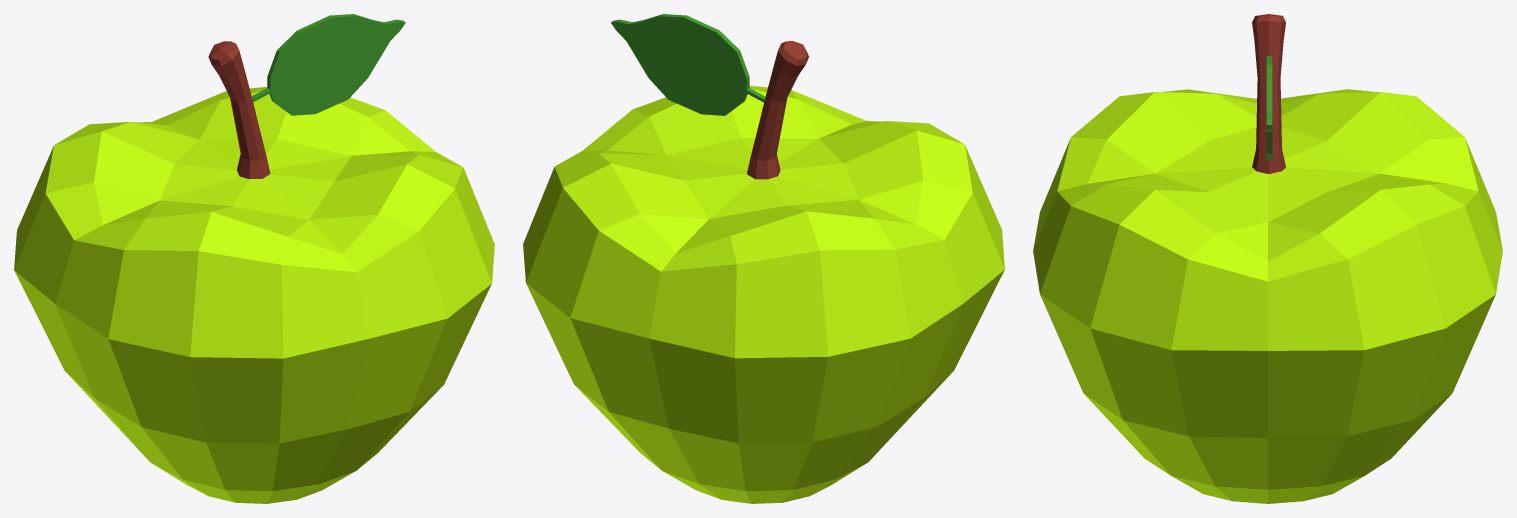
File: Apple_Green.fbx
3 views of the same model, side by side, from view 1: azimuth 30°, elevation 25°; view 2: azimuth 150°, elevation 25°; view 3: azimuth 270°, elevation 25° (orthographic). The views are drawn at different scales.
Visible parts, largest first — view 1: Apple_Green; view 2: Apple_Green; view 3: Apple_Green.
Boxes of the visible parts, bbox=[...] form: Apple_Green: bbox=[14, 14, 494, 503]; Apple_Green: bbox=[523, 14, 1004, 503]; Apple_Green: bbox=[1033, 14, 1502, 503].
Bounding box in the file's own units: 0.8025 × 0.8517 × 0.7987.
